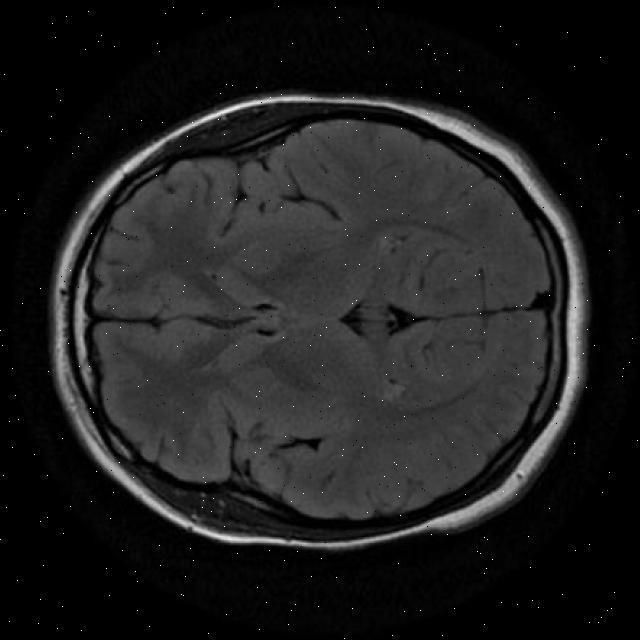No_Tumor: (53, 94, 589, 548)
